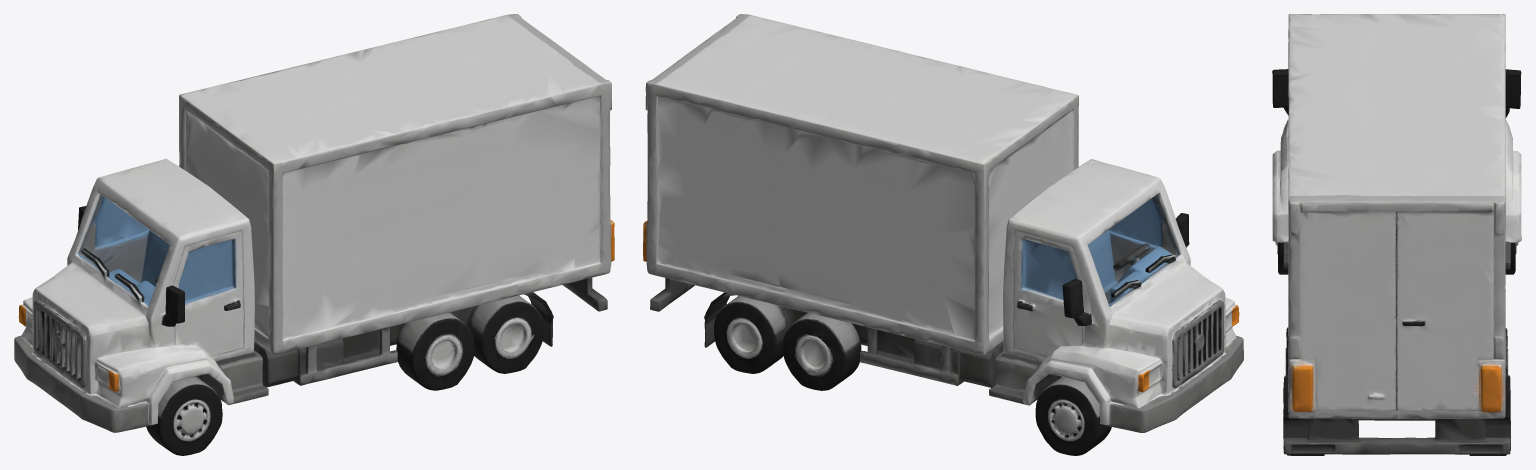
File: truck.glb
3 views of the same model, side by side, from view 1: azimuth 30°, elevation 25°; view 2: azimuth 150°, elevation 25°; view 3: azimuth 270°, elevation 25° (orthographic). The views are drawn at different scales.
Parts seen in each view (by area): view 1: geometry_0; view 2: geometry_0; view 3: geometry_0.
Boxes of the visible parts, box(x1,y1,x2,y2) form: geometry_0: box(14, 14, 614, 455); geometry_0: box(643, 14, 1243, 455); geometry_0: box(1272, 14, 1521, 455).
Bounding box in the file's own units: 7 × 3.46 × 2.57.
1 material, 1 textured.
